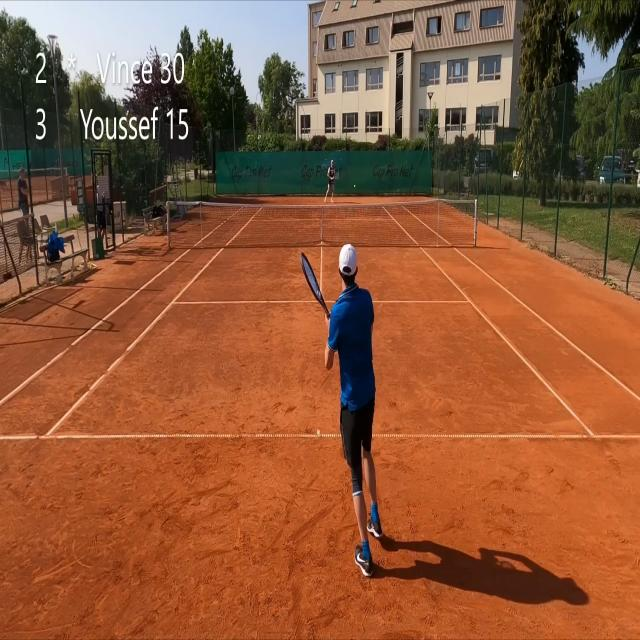ball: (354, 185, 356, 188)
